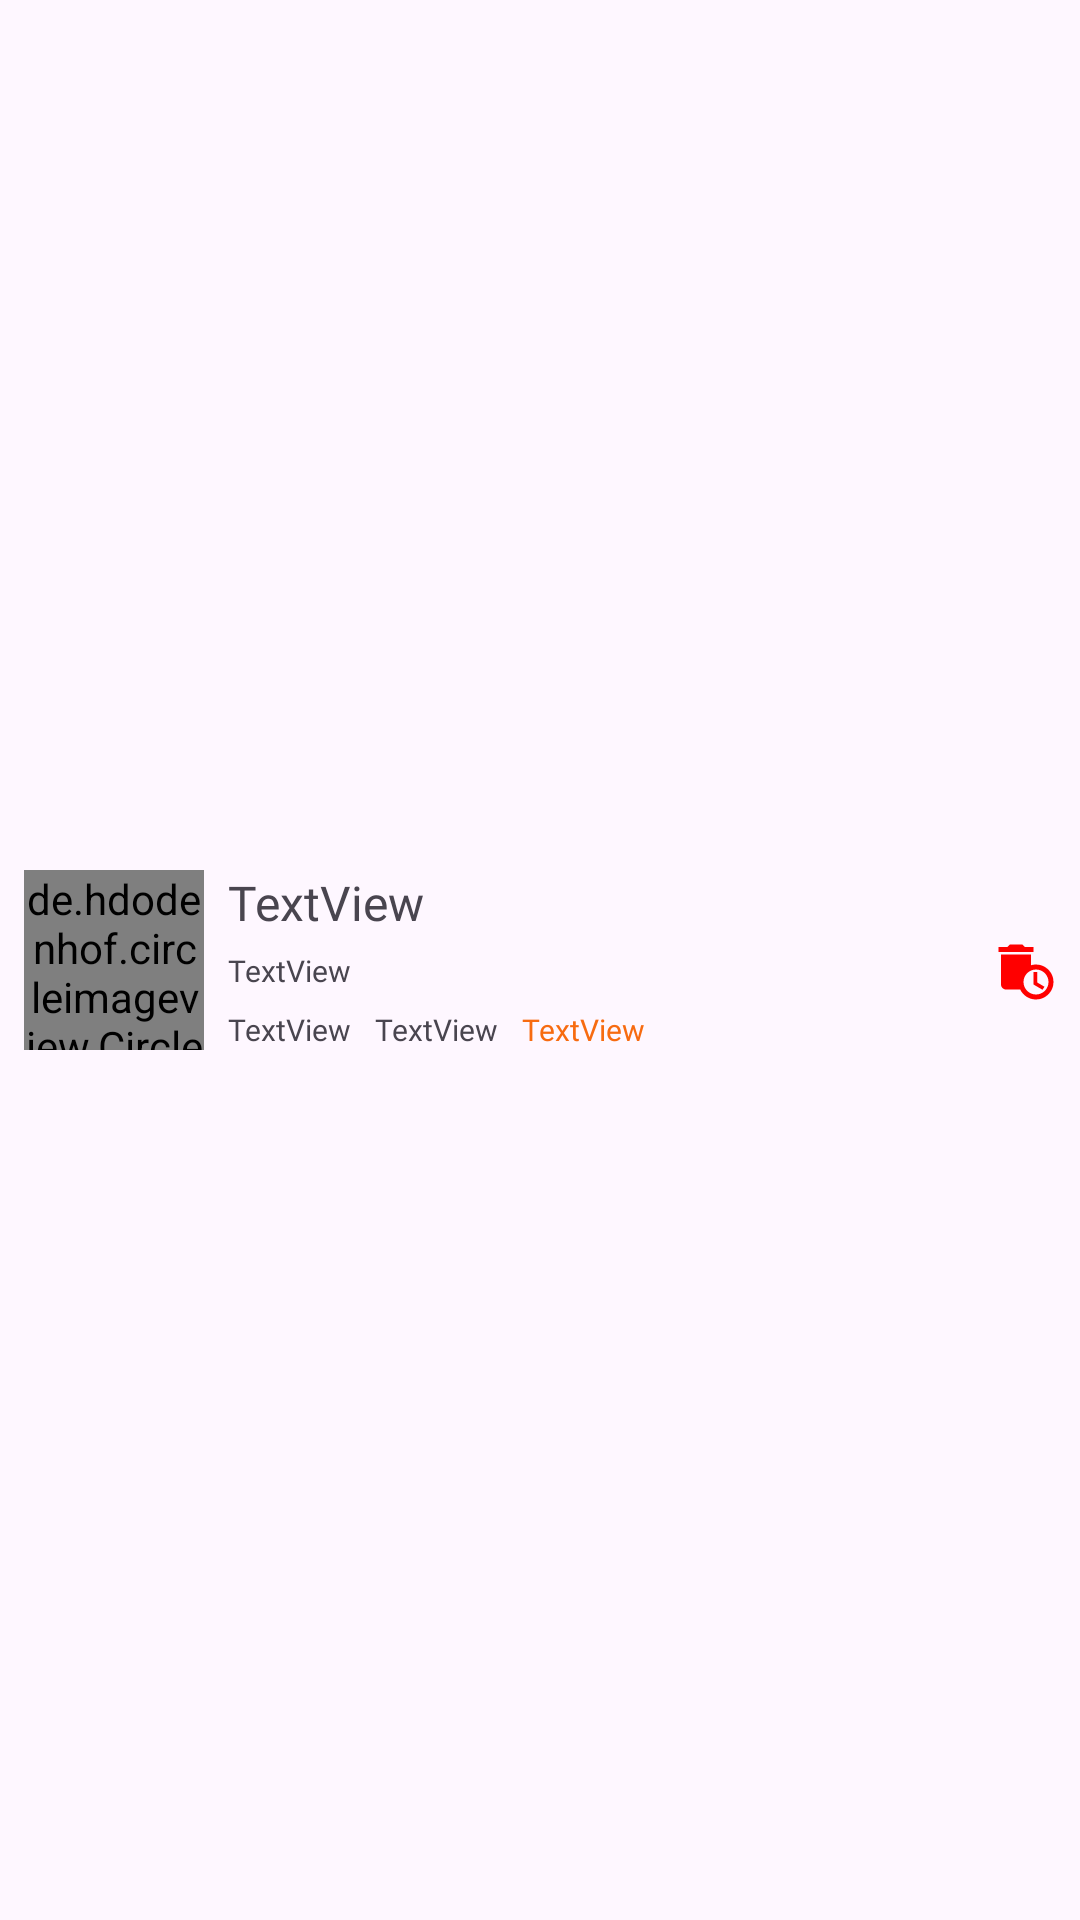

Icons on this 1080px x 1920px Android screen, each with its box as [x1, y1, x2, y2]:
delete: [998, 944, 1054, 1000]
